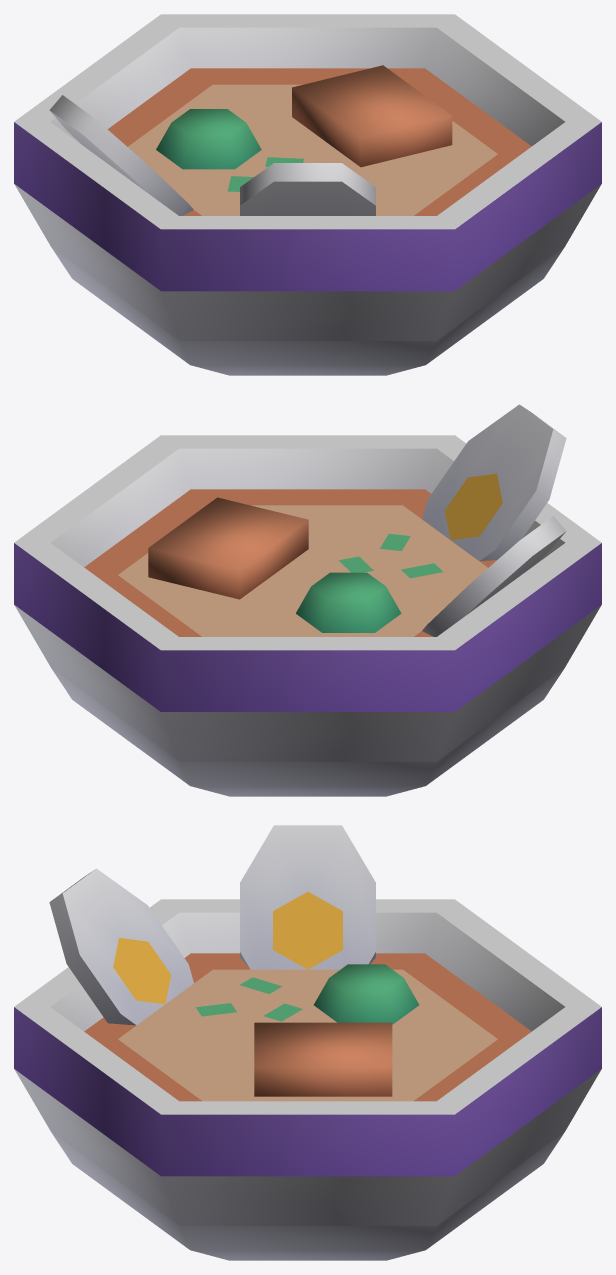
Rendered from bowl-broth.glb.
3 views of the same model, one above another, from view 1: azimuth 30°, elevation 25°; view 2: azimuth 150°, elevation 25°; view 3: azimuth 270°, elevation 25° (orthographic).
Visible parts, largest first — view 1: bowl-broth, Group; view 2: bowl-broth, Group; view 3: bowl-broth, Group.
Boxes of the visible parts, x1=… form: bowl-broth: x1=14, y1=14, x2=601, y2=375; Group: x1=156, y1=109, x2=261, y2=169; bowl-broth: x1=14, y1=404, x2=601, y2=796; Group: x1=296, y1=572, x2=401, y2=632; bowl-broth: x1=14, y1=825, x2=601, y2=1260; Group: x1=314, y1=964, x2=418, y2=1024.
Size of the model in its own units: 0.5262 by 0.2903 by 0.5798.
